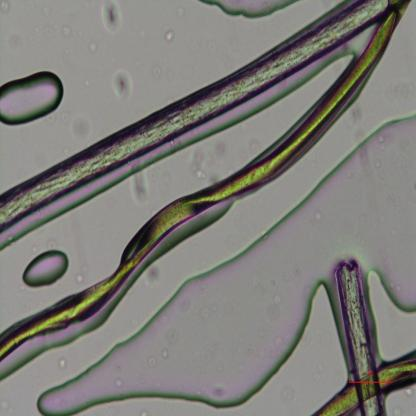Air bubble: (37, 112, 416, 414), (363, 264, 416, 366), (0, 70, 64, 125), (22, 249, 69, 291), (197, 0, 299, 19)
Background material: (190, 140, 227, 180), (339, 99, 367, 142), (129, 168, 151, 206), (102, 0, 122, 38), (112, 68, 132, 104), (146, 63, 165, 86), (144, 263, 160, 286), (72, 271, 89, 285), (270, 292, 284, 307), (308, 213, 327, 224), (163, 25, 174, 43), (56, 355, 68, 371), (0, 0, 11, 15), (64, 26, 78, 37), (87, 38, 96, 51)
Microfibre: (0, 0, 410, 359), (0, 0, 393, 233), (334, 260, 385, 416), (310, 355, 416, 415)
